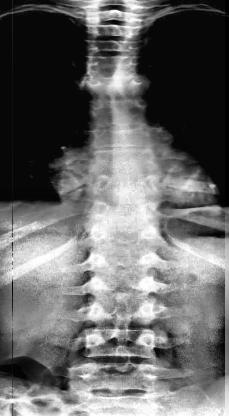Vertebrae: (69, 360, 163, 396), (82, 328, 164, 360), (88, 204, 160, 240), (90, 295, 161, 327), (90, 243, 161, 273), (92, 174, 162, 202), (87, 52, 143, 84), (95, 148, 156, 176), (87, 274, 162, 296), (92, 101, 148, 130), (92, 126, 152, 152), (88, 79, 146, 105), (86, 36, 142, 54), (85, 11, 146, 25), (87, 22, 143, 37)
